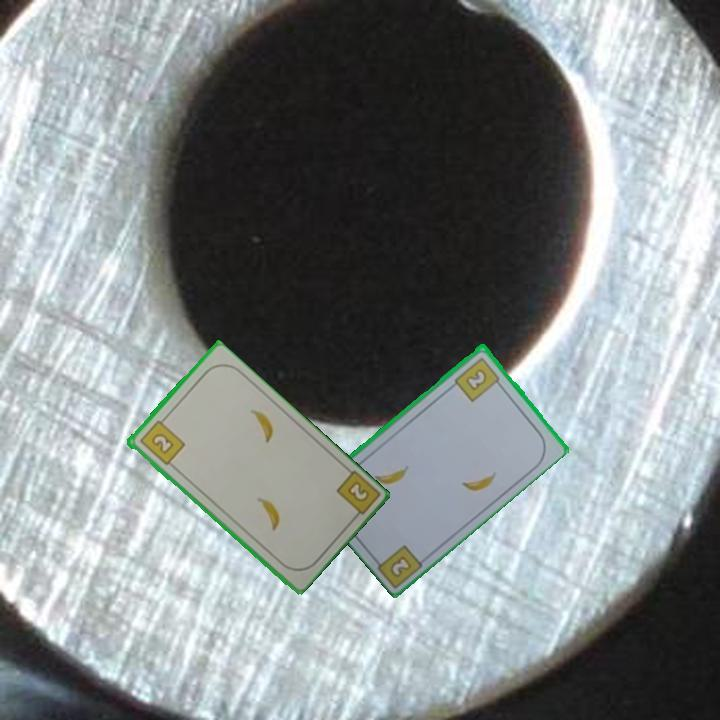2b: (332, 467, 381, 525), (136, 413, 187, 468), (451, 353, 505, 404), (386, 552, 415, 580)
